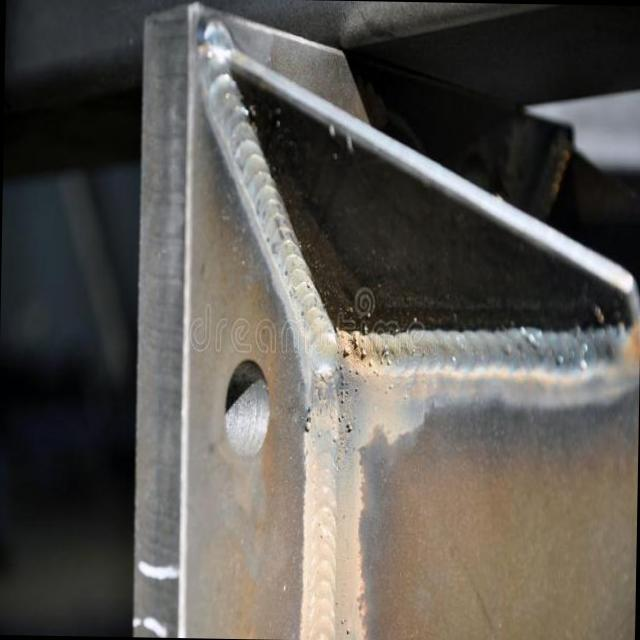defect: (334, 333, 401, 405), (301, 399, 315, 442), (335, 410, 355, 436)
